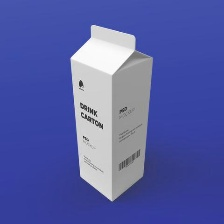carton: (69, 22, 155, 205)
